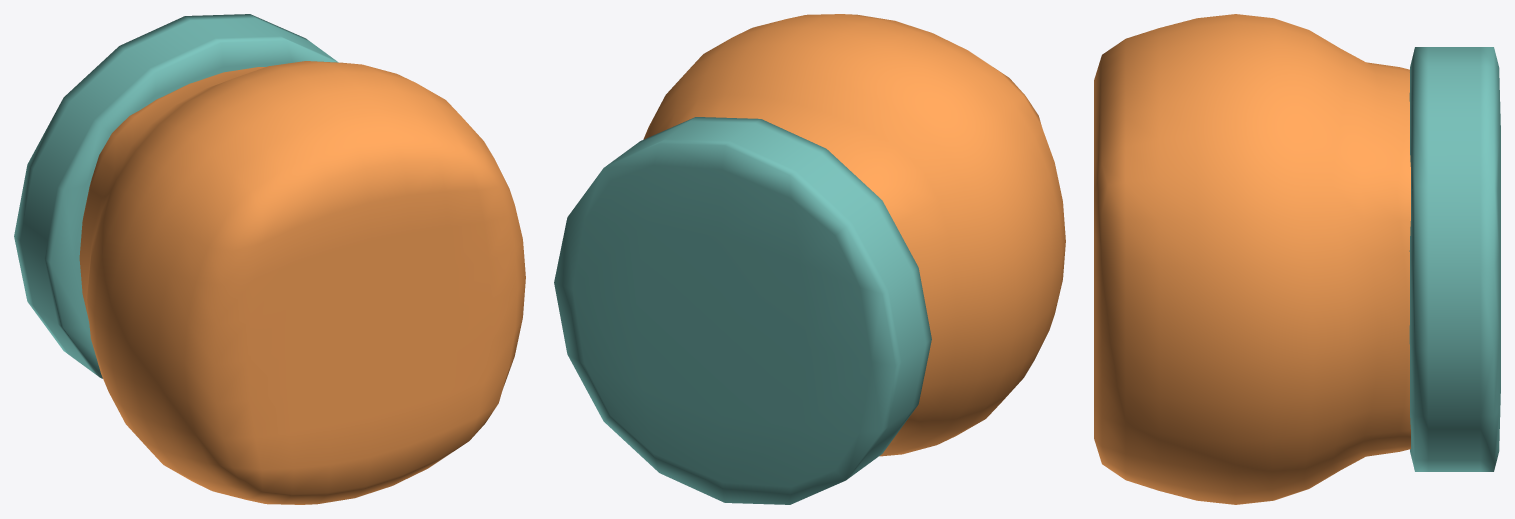
File: Peanut Pickup.glb
3 renders of one model, left to right at view 1: azimuth 30°, elevation 25°; view 2: azimuth 150°, elevation 25°; view 3: azimuth 270°, elevation 25°, orthographic. The views are drawn at different scales.
Parts seen in each view (by area): view 1: PeanutButterJar_geo, PeanutButterJar_geo1; view 2: PeanutButterJar_geo1, PeanutButterJar_geo; view 3: PeanutButterJar_geo, PeanutButterJar_geo1.
Part boxes in pixels (left/top/right/bottom): PeanutButterJar_geo: left=79, top=61, right=525, bottom=504; PeanutButterJar_geo1: left=14, top=14, right=338, bottom=378; PeanutButterJar_geo1: left=554, top=117, right=931, bottom=504; PeanutButterJar_geo: left=643, top=14, right=1065, bottom=456; PeanutButterJar_geo: left=1094, top=14, right=1410, bottom=504; PeanutButterJar_geo1: left=1409, top=47, right=1500, bottom=471.
Bounding box in the file's own units: 1.09 × 1.09 × 0.9143.
